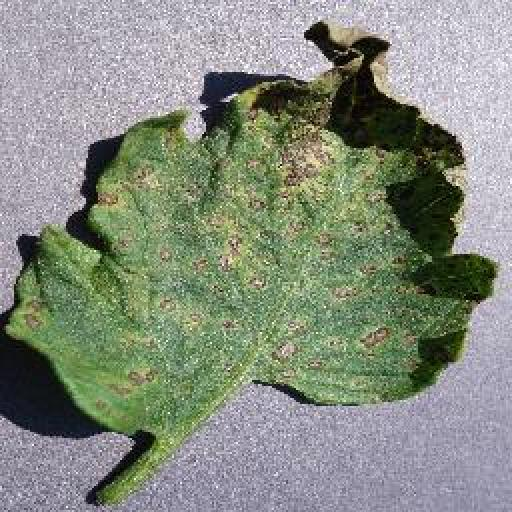disease_tomato: (11, 18, 496, 438)
